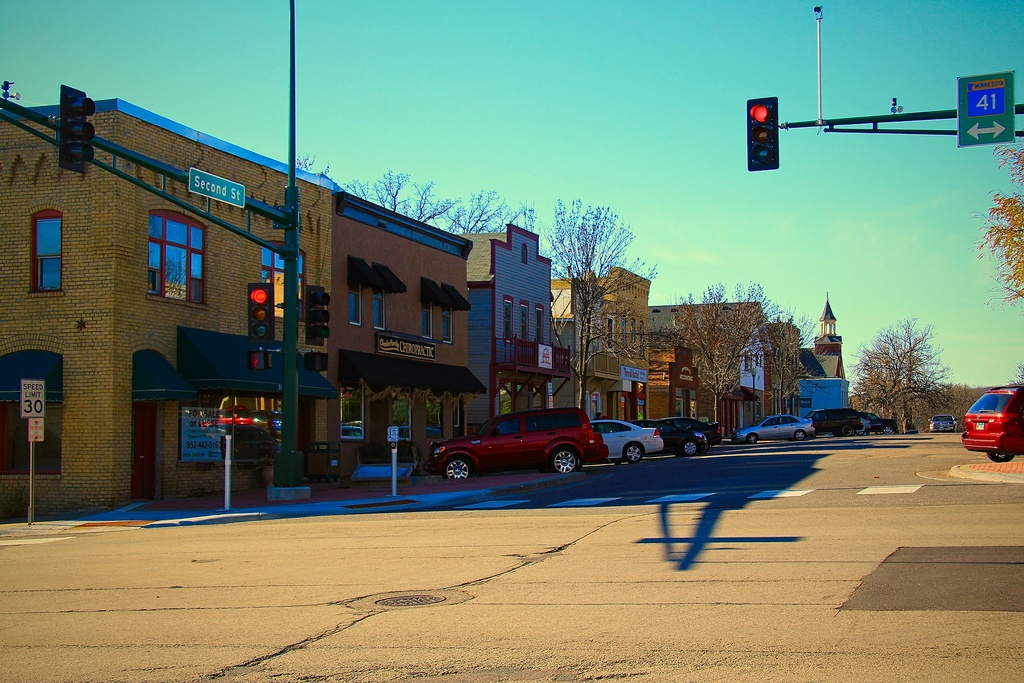red_light: (746, 97, 776, 170), (248, 285, 273, 343)
